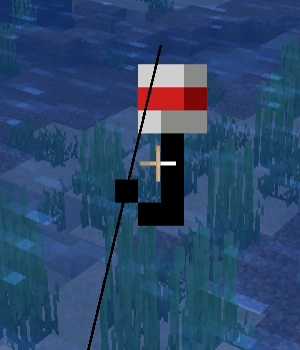up: (110, 55, 215, 224)
